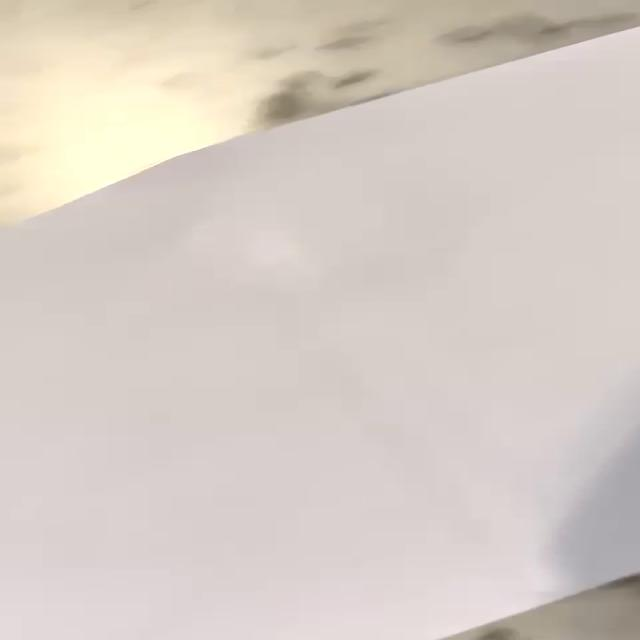road: (0, 27, 640, 640)
